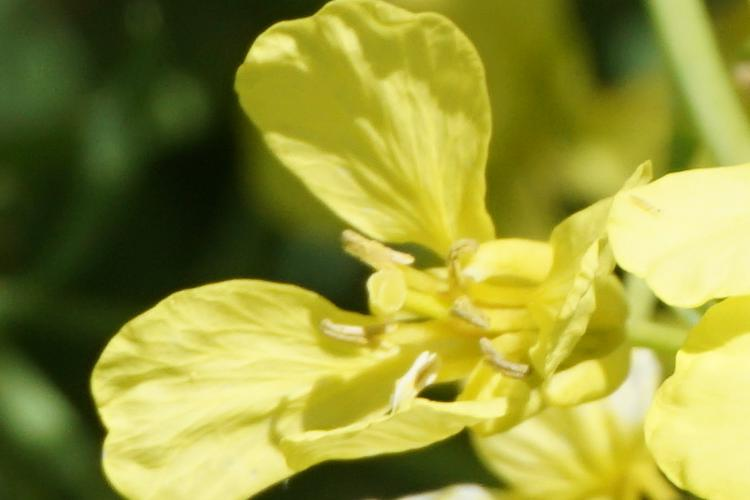yellow: (116, 28, 634, 464)
